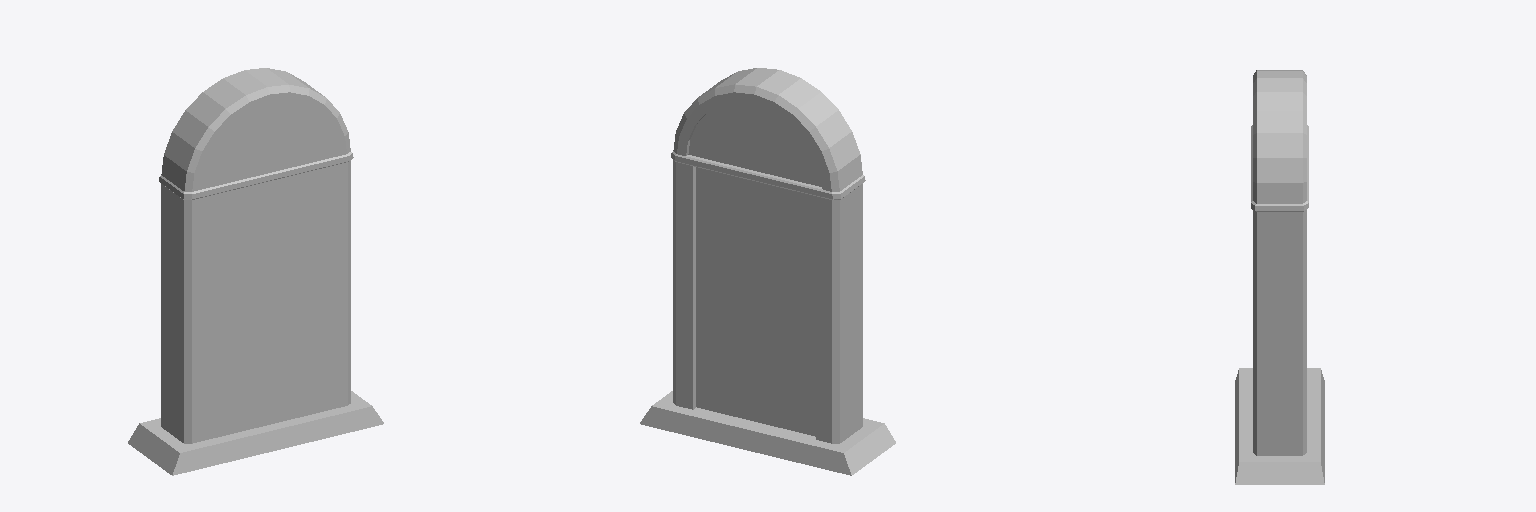
File: Pierre tombal.obj
The picture shows the model from 3 angles: view 1: azimuth 30°, elevation 25°; view 2: azimuth 150°, elevation 25°; view 3: azimuth 270°, elevation 25°; orthographic projection.
Visible parts, largest first — view 1: bayomat0; view 2: bayomat0; view 3: bayomat0.
Boxes of the visible parts, <box> form: bayomat0: <box>128,68,383,475</box>; bayomat0: <box>640,68,895,475</box>; bayomat0: <box>1235,70,1324,484</box>.
Size of the model in its own units: 1.11 by 1.77 by 0.405.